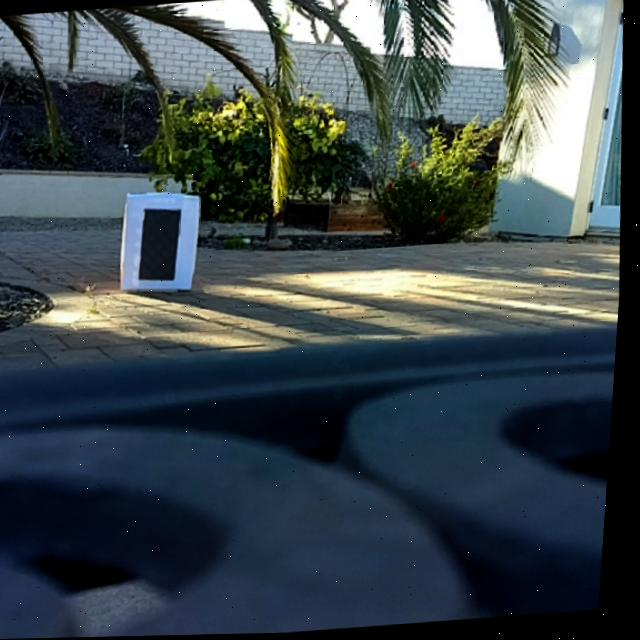led: (140, 207, 185, 284)
